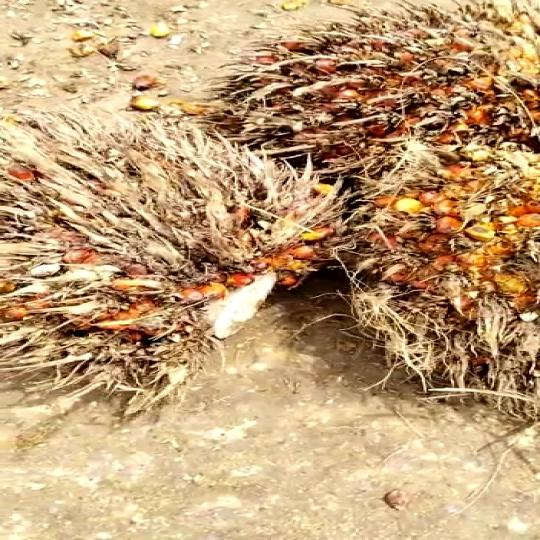terlalu masak: (0, 126, 359, 365), (219, 35, 540, 156)
